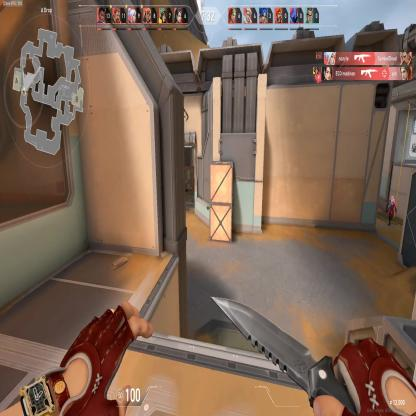enemy: (386, 195, 397, 226)
